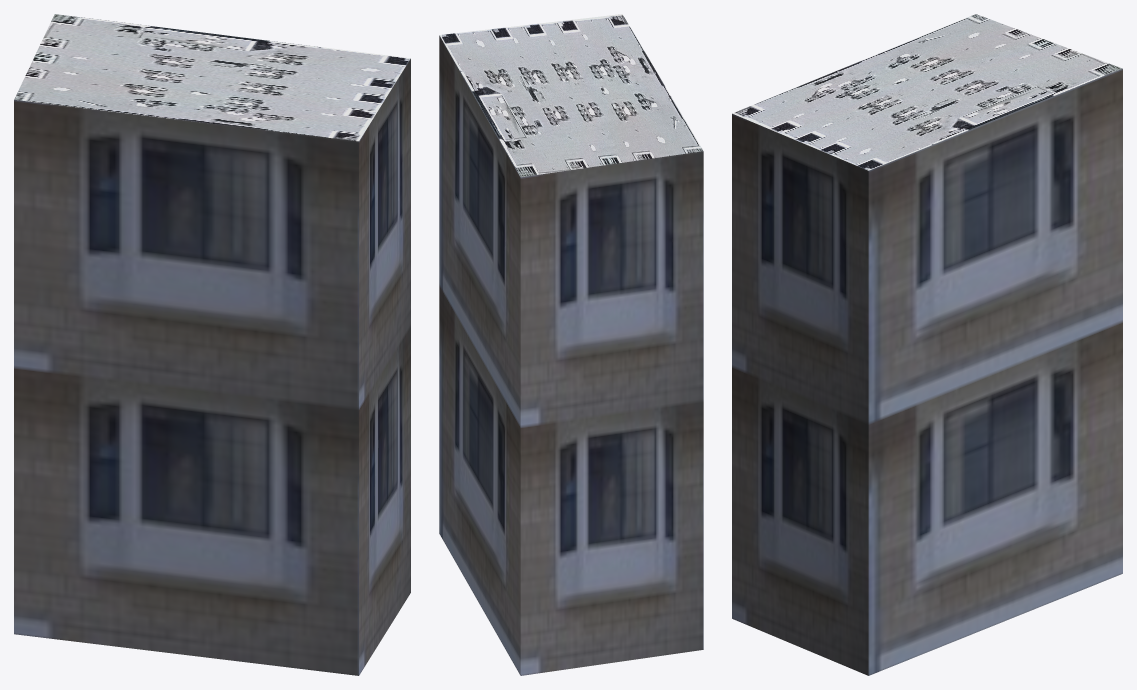
File: ResTex__1270.fbx
The picture shows the model from 3 angles, left to right: view 1: azimuth 30°, elevation 25°; view 2: azimuth 150°, elevation 25°; view 3: azimuth 270°, elevation 25°; orthographic projection. The views are drawn at different scales.
Parts seen in each view (by area): view 1: CityEngineMaterial_3_m, CityEngineMaterial_m; view 2: CityEngineMaterial_3_m, CityEngineMaterial_m; view 3: CityEngineMaterial_3_m, CityEngineMaterial_m.
Part boxes in pixels (x1,y1,x2,y2): CityEngineMaterial_3_m: (14, 58, 410, 675); CityEngineMaterial_m: (14, 14, 410, 141); CityEngineMaterial_3_m: (439, 35, 703, 675); CityEngineMaterial_m: (439, 14, 703, 177); CityEngineMaterial_3_m: (732, 68, 1122, 675); CityEngineMaterial_m: (732, 14, 1122, 170).
Bounding box in the file's own units: 3.99 × 6 × 4.21.
Materials: 2 (2 with a texture image).
